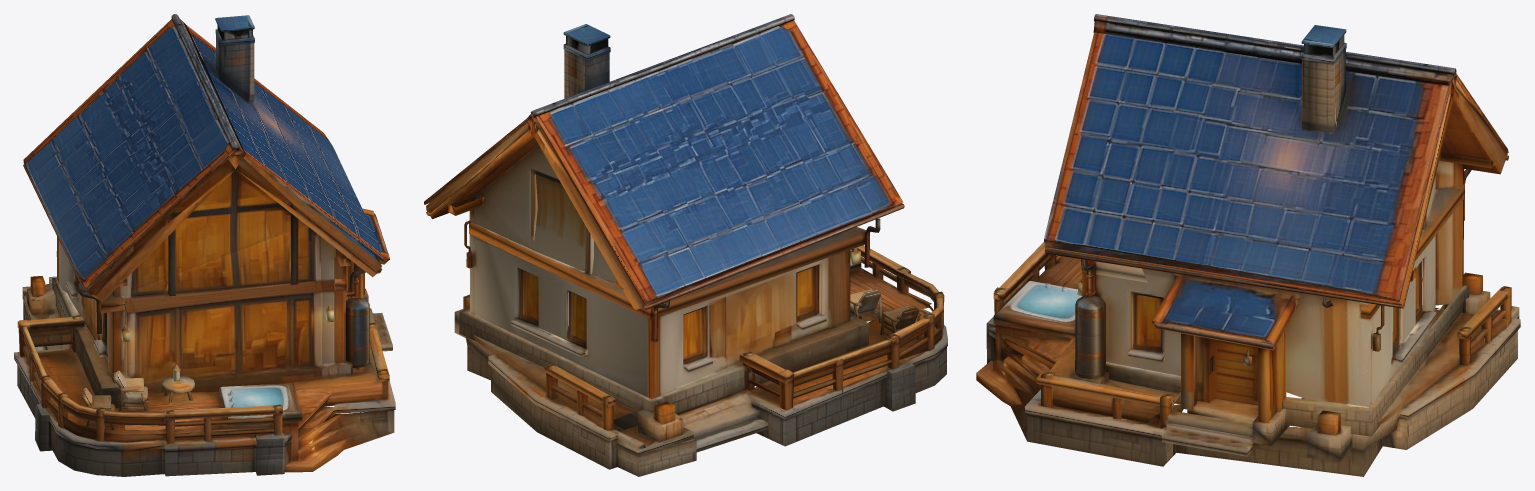
Rendered from hottubHouse.glb.
3 views of the same model, side by side, from view 1: azimuth 30°, elevation 25°; view 2: azimuth 150°, elevation 25°; view 3: azimuth 270°, elevation 25° (orthographic). The views are drawn at different scales.
Visible parts, largest first — view 1: cfb18d10_3ff5_4723_9bbf_f05656546b81; view 2: cfb18d10_3ff5_4723_9bbf_f05656546b81; view 3: cfb18d10_3ff5_4723_9bbf_f05656546b81.
Boxes of the visible parts, x1,y1,x2,y2 form: cfb18d10_3ff5_4723_9bbf_f05656546b81: (14,14,395,476); cfb18d10_3ff5_4723_9bbf_f05656546b81: (424,14,947,476); cfb18d10_3ff5_4723_9bbf_f05656546b81: (976,14,1520,476).
Size of the model in its own units: 0.937 by 0.7837 by 0.9995.
1 material, 1 textured.
